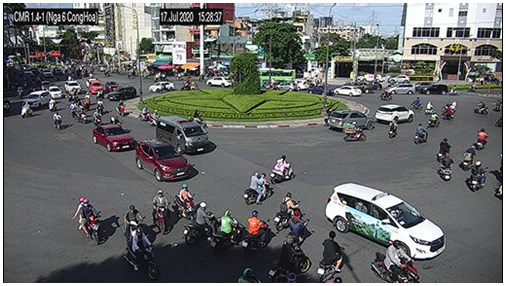xe_buyt: (256, 67, 297, 83)
xe_cuu_thuong: (157, 116, 209, 156)
xe_hoi: (325, 183, 445, 260), (136, 140, 192, 181), (92, 125, 136, 152), (328, 110, 375, 132), (376, 105, 413, 122), (24, 91, 51, 109), (108, 86, 138, 102), (384, 83, 415, 96), (421, 83, 447, 95), (334, 86, 362, 97), (205, 76, 232, 87), (150, 82, 175, 93), (308, 86, 333, 95), (64, 80, 81, 92), (47, 85, 61, 97), (89, 80, 101, 94), (274, 82, 295, 90), (387, 75, 408, 83), (357, 73, 381, 80), (292, 79, 306, 89), (41, 68, 52, 76)
xe_may: (370, 241, 420, 283), (126, 230, 158, 280), (270, 238, 309, 278), (185, 200, 218, 243), (212, 210, 245, 252), (317, 231, 344, 282), (74, 195, 100, 243), (245, 208, 270, 254), (275, 192, 302, 229), (244, 171, 272, 205), (123, 203, 144, 246), (174, 181, 194, 220), (285, 212, 305, 249), (153, 189, 167, 236), (271, 154, 293, 182), (469, 160, 486, 193), (343, 121, 367, 142), (439, 153, 452, 180), (413, 123, 428, 144), (475, 127, 488, 151), (236, 269, 258, 283), (437, 137, 450, 160), (462, 145, 474, 169), (473, 100, 490, 116), (51, 111, 63, 130), (150, 109, 162, 127), (387, 119, 398, 138), (76, 105, 87, 124), (428, 112, 440, 129), (20, 103, 34, 117), (444, 98, 456, 111), (379, 90, 391, 103), (96, 97, 105, 114), (139, 106, 149, 121), (92, 109, 101, 125), (108, 113, 120, 125), (442, 104, 451, 119), (424, 101, 434, 114), (412, 95, 421, 108), (117, 98, 123, 117), (69, 101, 75, 119), (4, 98, 10, 113), (493, 98, 501, 109), (103, 68, 111, 78), (181, 80, 188, 90), (190, 80, 196, 90), (80, 68, 86, 77), (89, 70, 95, 77)
